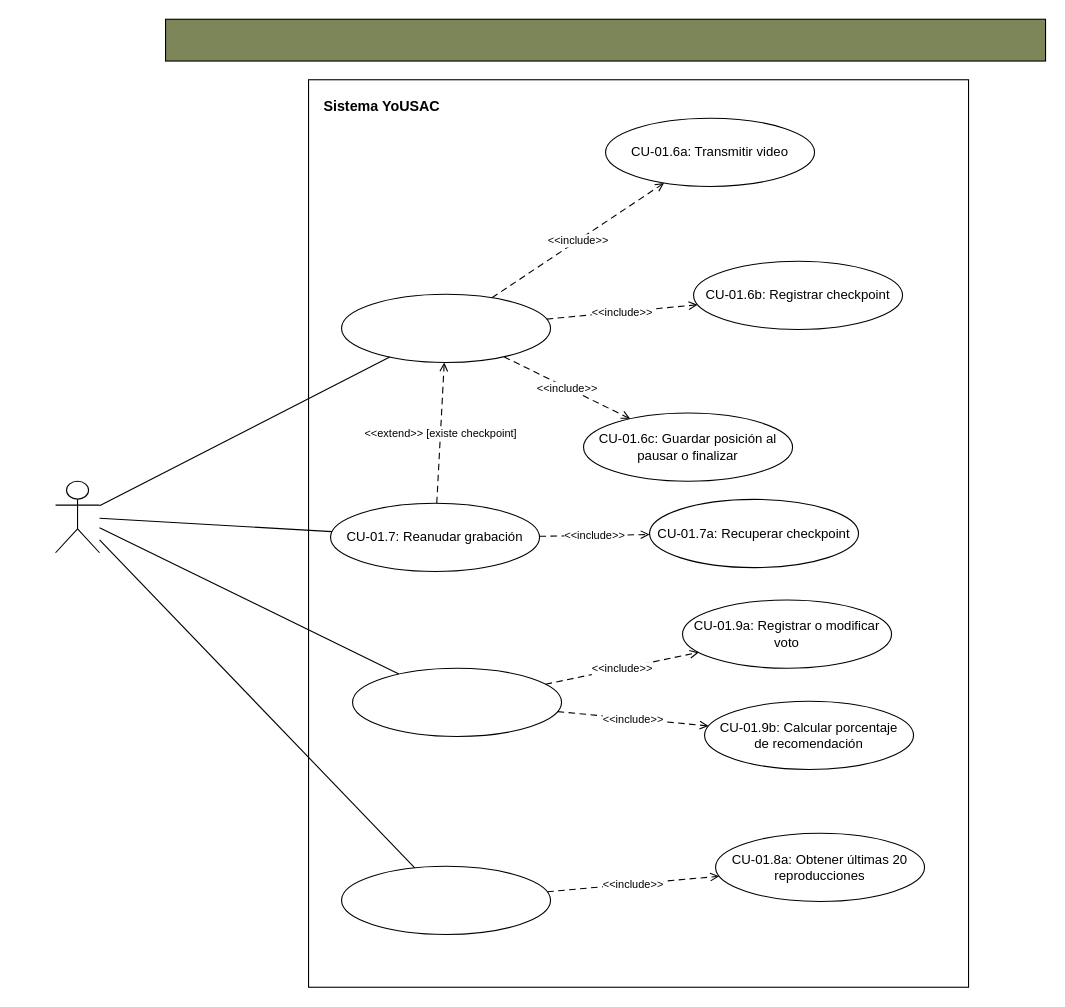
Some shapes in this 1065 by 1007 pixel diagram are drawn without their labels. Each missing label, with the centre of its shape:
CU-01.6: Reproducir grabación: the point at 445,327
CU-01.8: Consultar historial de reproducción: the point at 445,899
CU-01.9: Valorar grabación: the point at 456,701
Descomposición por módulo — Reproductor, checkpoint y valoración: the point at 605,39
Usuario institucional: the point at 77,516
